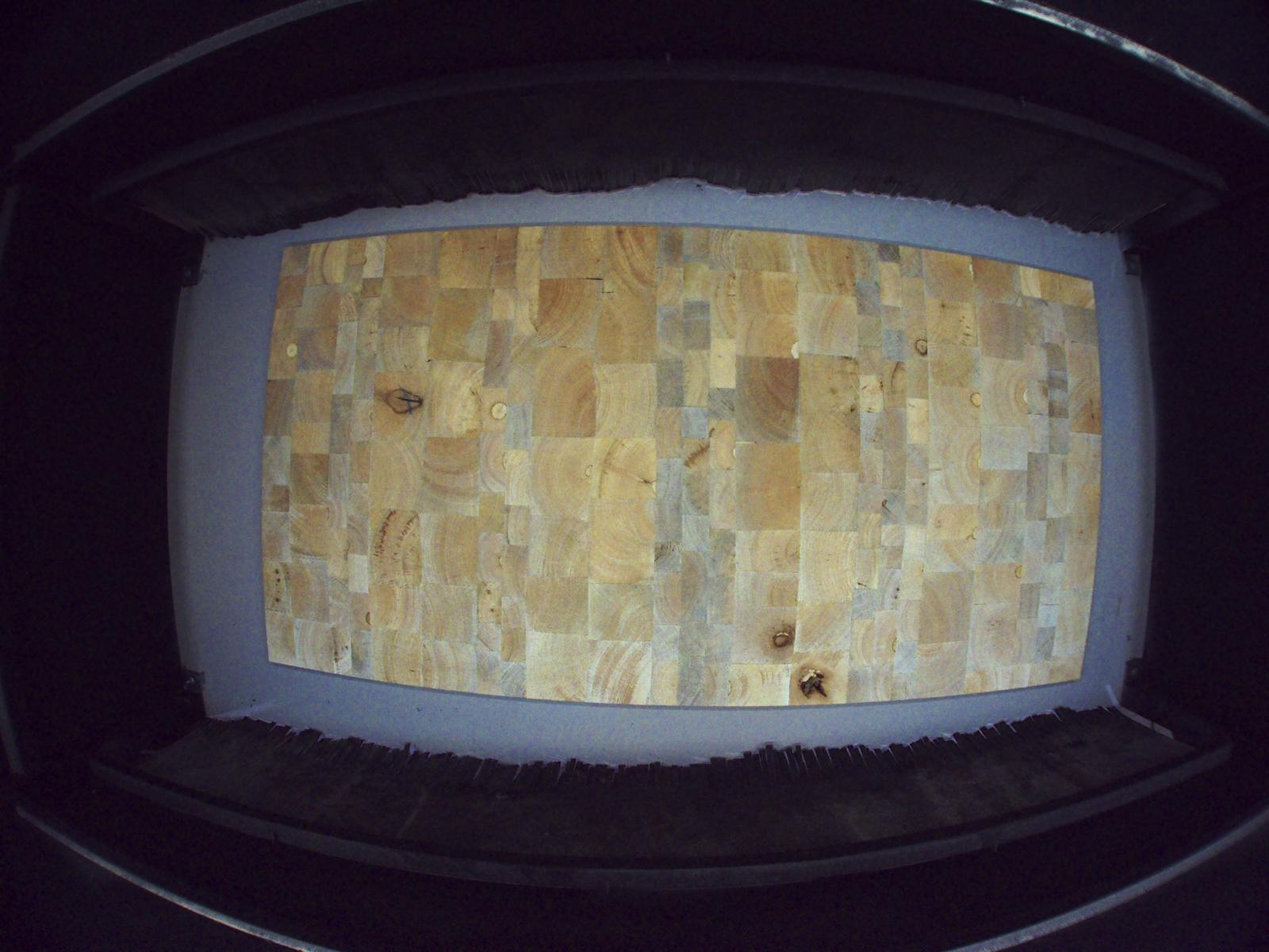nudillo: (789, 658, 839, 706), (759, 615, 795, 659)
